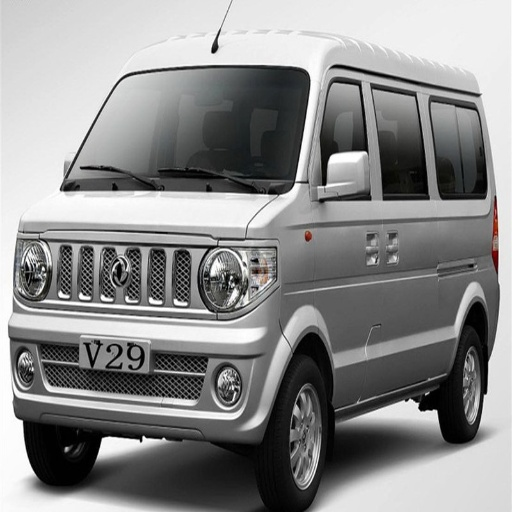back_left_door: (372, 80, 464, 379)
front_bumper: (7, 236, 292, 441)
front_glass: (61, 67, 310, 192)
front_left_door: (310, 74, 411, 396)
trunk: (436, 220, 495, 321)
